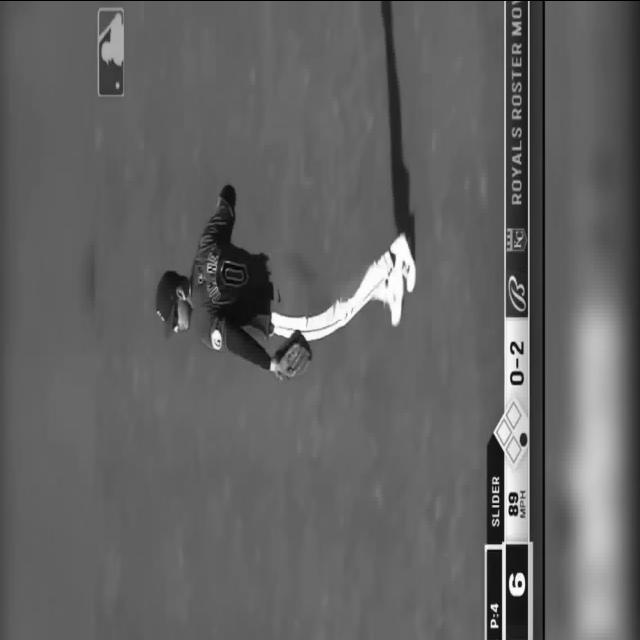baseball_glove: (273, 329, 312, 381)
shoe: (390, 232, 416, 292), (385, 267, 404, 327)
